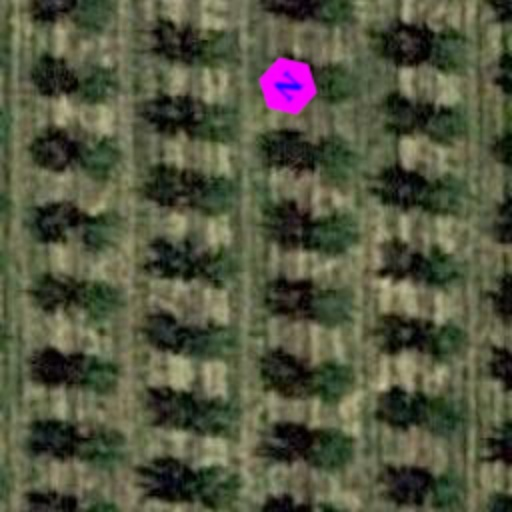hexagon: (244, 42, 332, 130)
